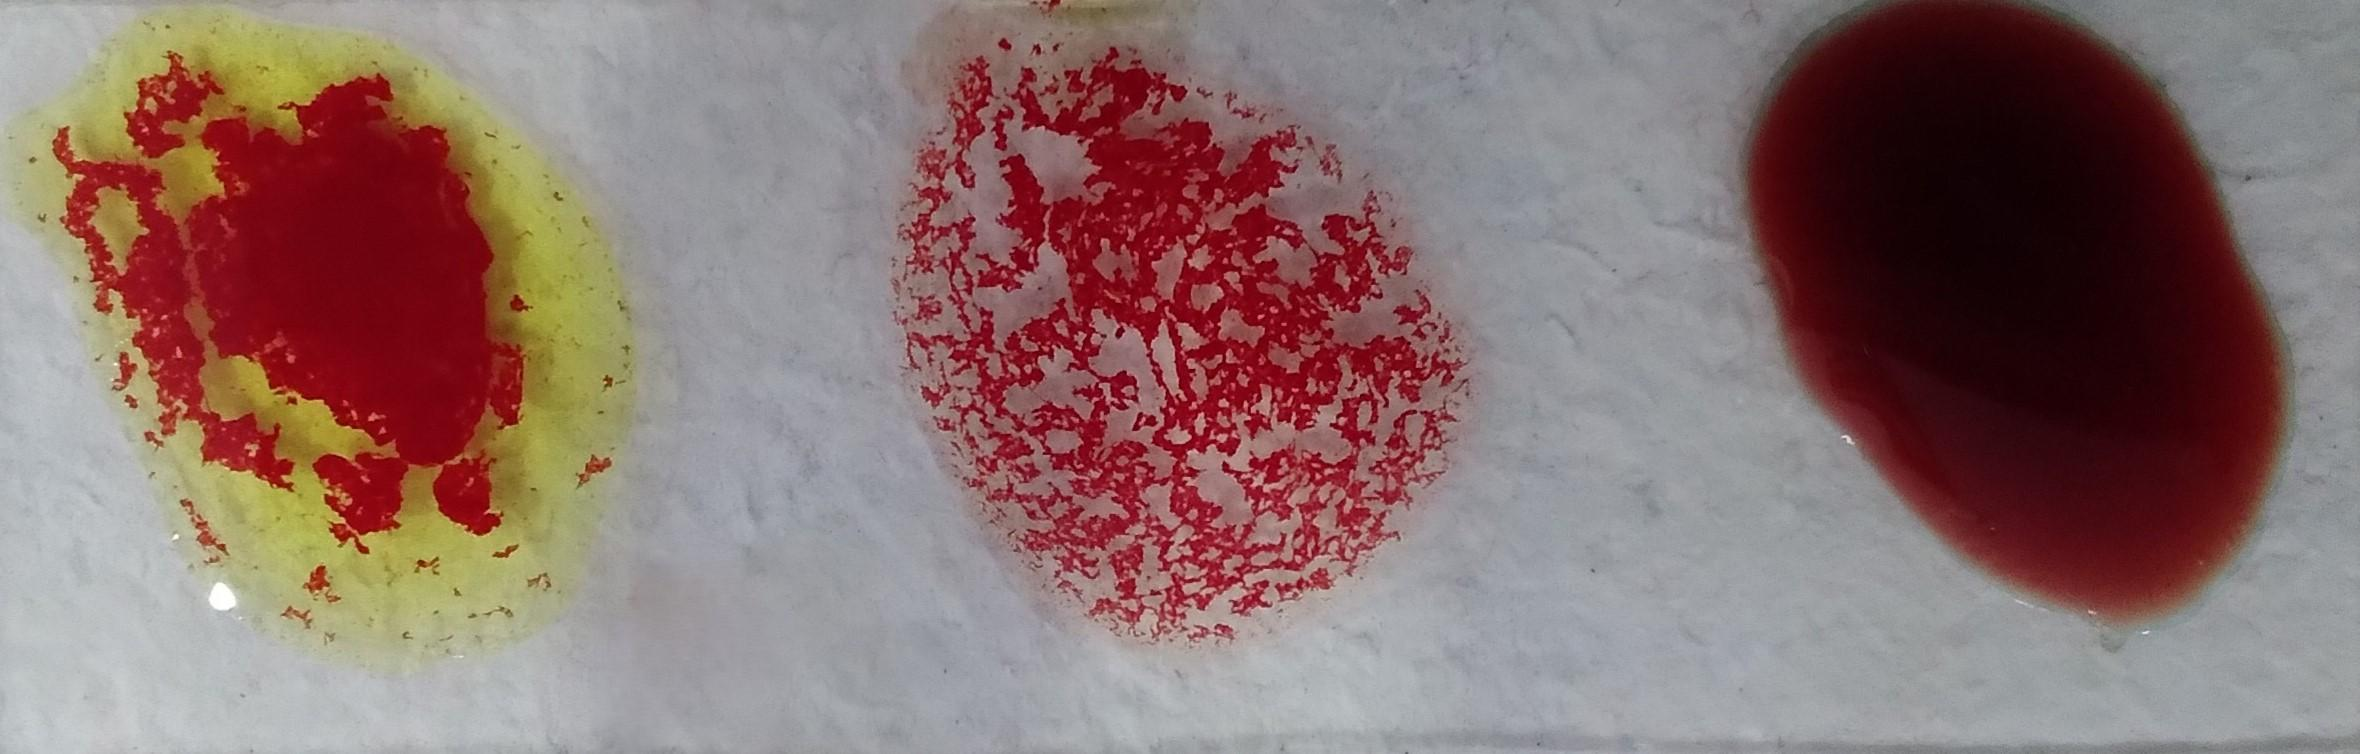B: (74, 21, 619, 647)
D: (903, 18, 1431, 653)
